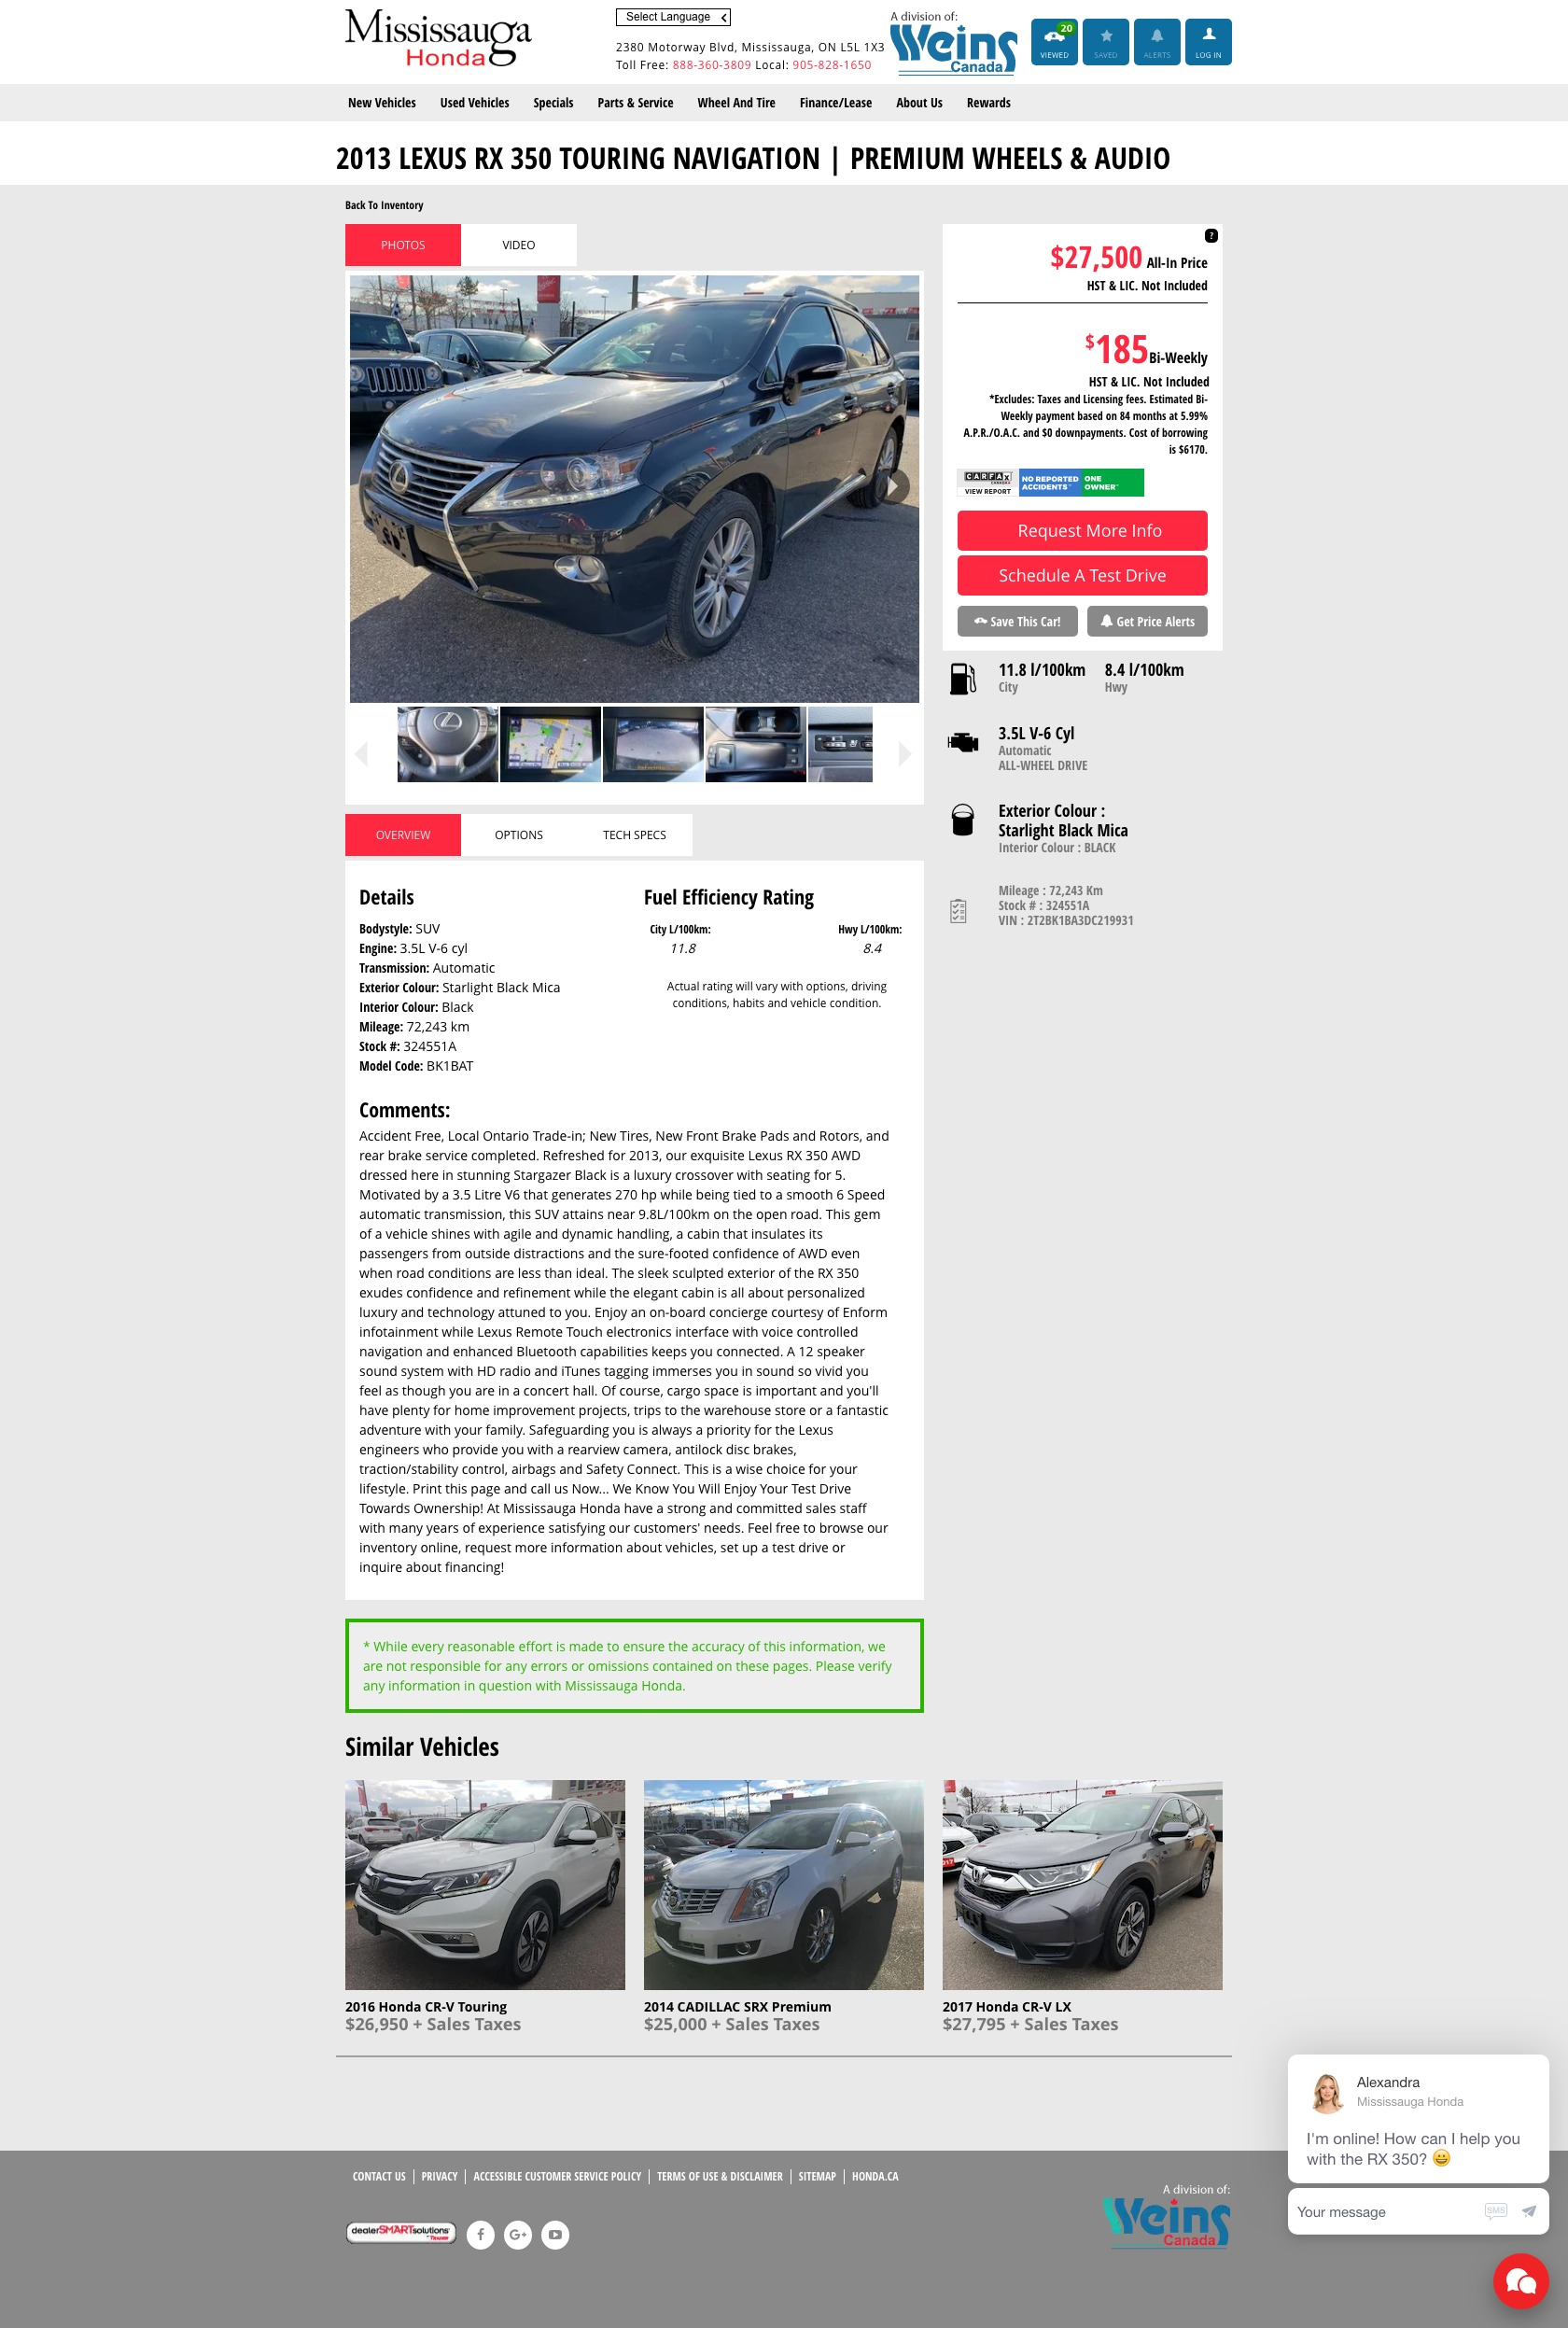car: (898, 740, 913, 767)
